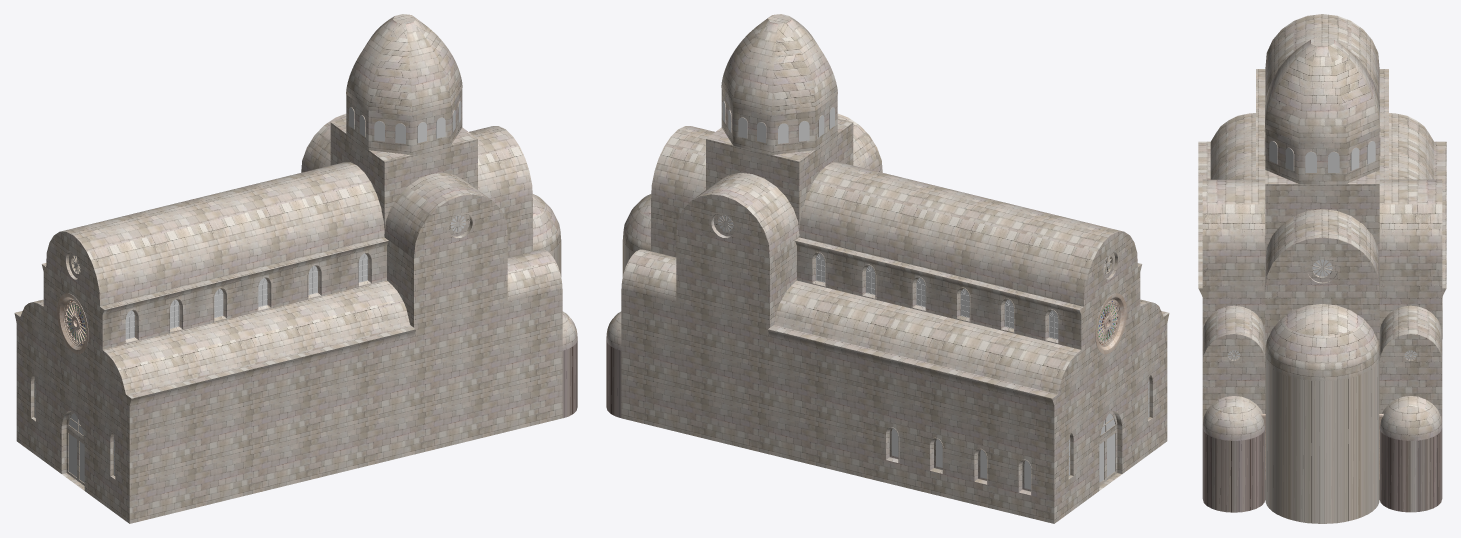
Rendered from cathedral.glb.
3 views of the same model, side by side, from view 1: azimuth 30°, elevation 25°; view 2: azimuth 150°, elevation 25°; view 3: azimuth 270°, elevation 25° (orthographic). The views are drawn at different scales.
Parts seen in each view (by area): view 1: Object__0_zid_vani_0, Object__0_kamen_zid_0, Object__0_staklo_0, Object__0_sprljci_0, Object__0_rozeta_0; view 2: Object__0_zid_vani_0, Object__0_kamen_zid_0, Object__0_staklo_0, Object__0_sprljci_0, Object__0_rozeta_0; view 3: Object__0_zid_vani_0, Object__0_kamen_zid_0, Object__0_staklo_0.
Boxes of the visible parts, left/top/right/bottom form: Object__0_zid_vani_0: left=14, top=14, right=577, bottom=523; Object__0_kamen_zid_0: left=34, top=16, right=462, bottom=438; Object__0_staklo_0: left=34, top=101, right=465, bottom=475; Object__0_sprljci_0: left=68, top=253, right=367, bottom=482; Object__0_rozeta_0: left=57, top=293, right=88, bottom=354; Object__0_zid_vani_0: left=606, top=14, right=1169, bottom=523; Object__0_kamen_zid_0: left=721, top=16, right=1149, bottom=489; Object__0_staklo_0: left=718, top=101, right=1149, bottom=489; Object__0_sprljci_0: left=816, top=253, right=1115, bottom=482; Object__0_rozeta_0: left=1095, top=293, right=1126, bottom=354; Object__0_zid_vani_0: left=1198, top=14, right=1446, bottom=523; Object__0_kamen_zid_0: left=1227, top=40, right=1417, bottom=361; Object__0_staklo_0: left=1228, top=141, right=1416, bottom=359.
Size of the model in its own units: 40.28 by 30.61 by 16.99.
Materials: 15 (8 with a texture image).
